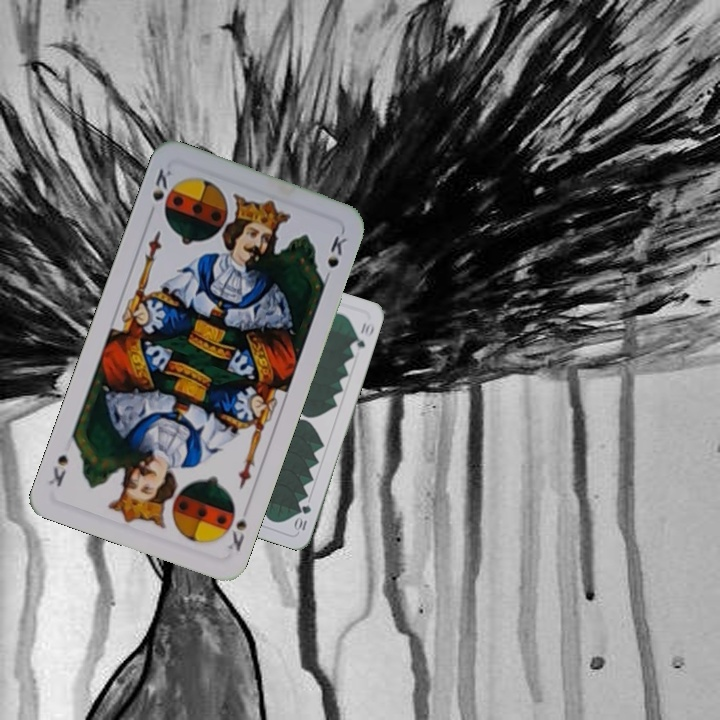G10: (291, 501, 314, 533)
SK: (218, 499, 250, 554), (148, 164, 177, 204)
